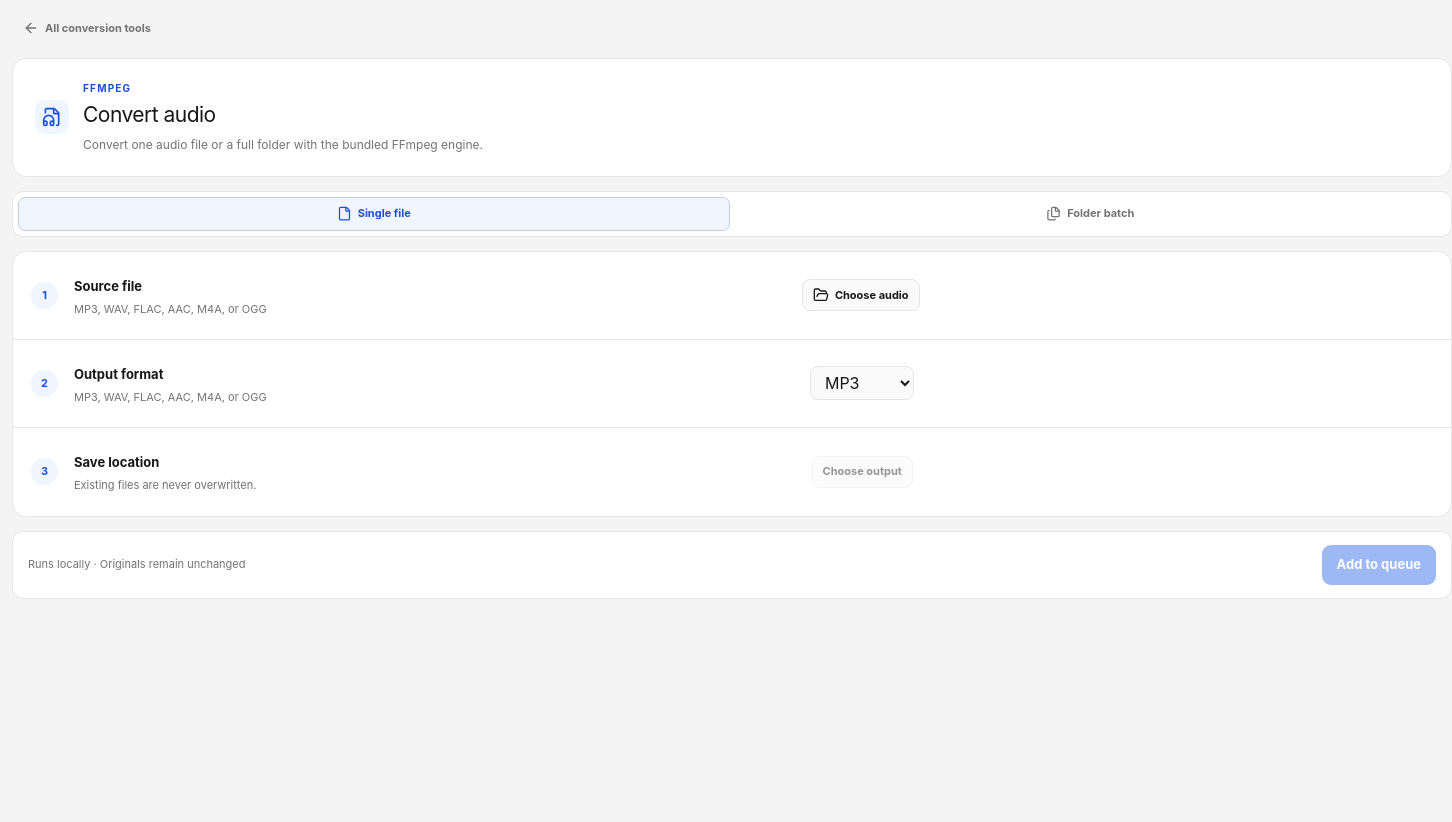
Test: AudioConverter › queues a selected folder as individual sequential audio jobs
This screenshot has width=1452, height=822.
Click the tab "Folder batch": x=1090, y=214 [734, 196, 1446, 230]
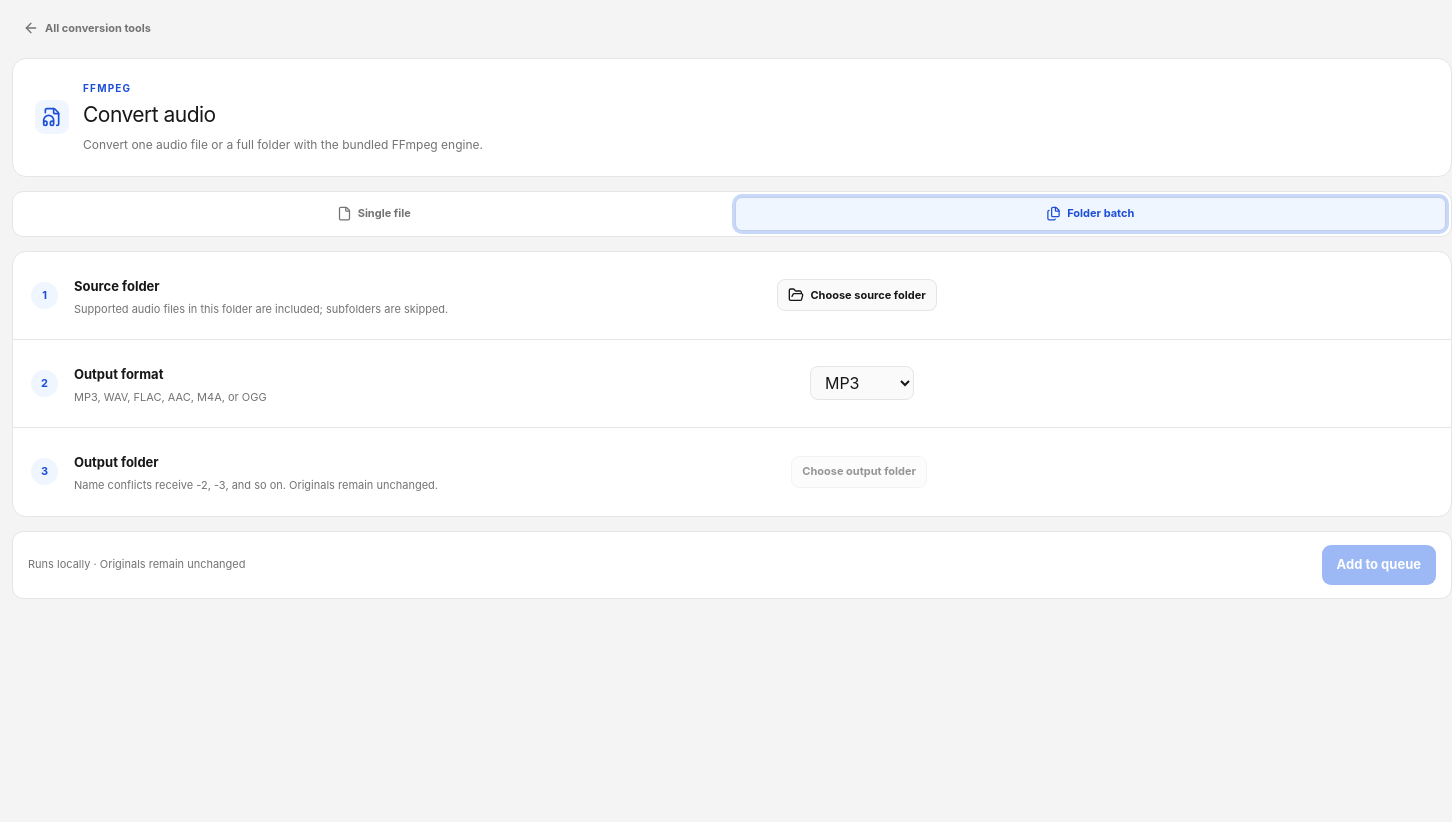
Click the button "Choose source folder": x=857, y=295 [777, 279, 937, 311]
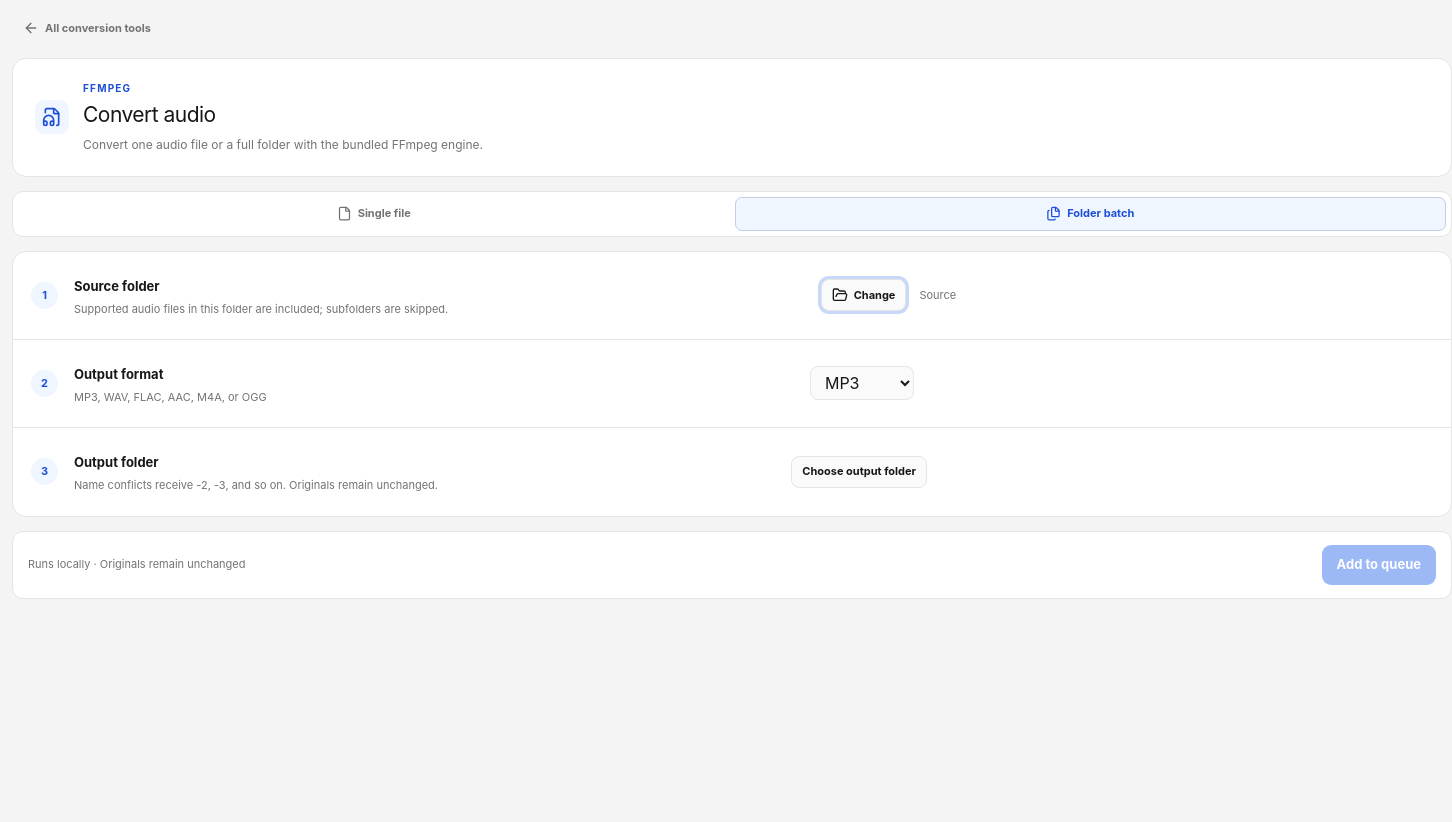
Select "OGG" in the dropdown named "Output format": x=862, y=383 [810, 366, 914, 400]
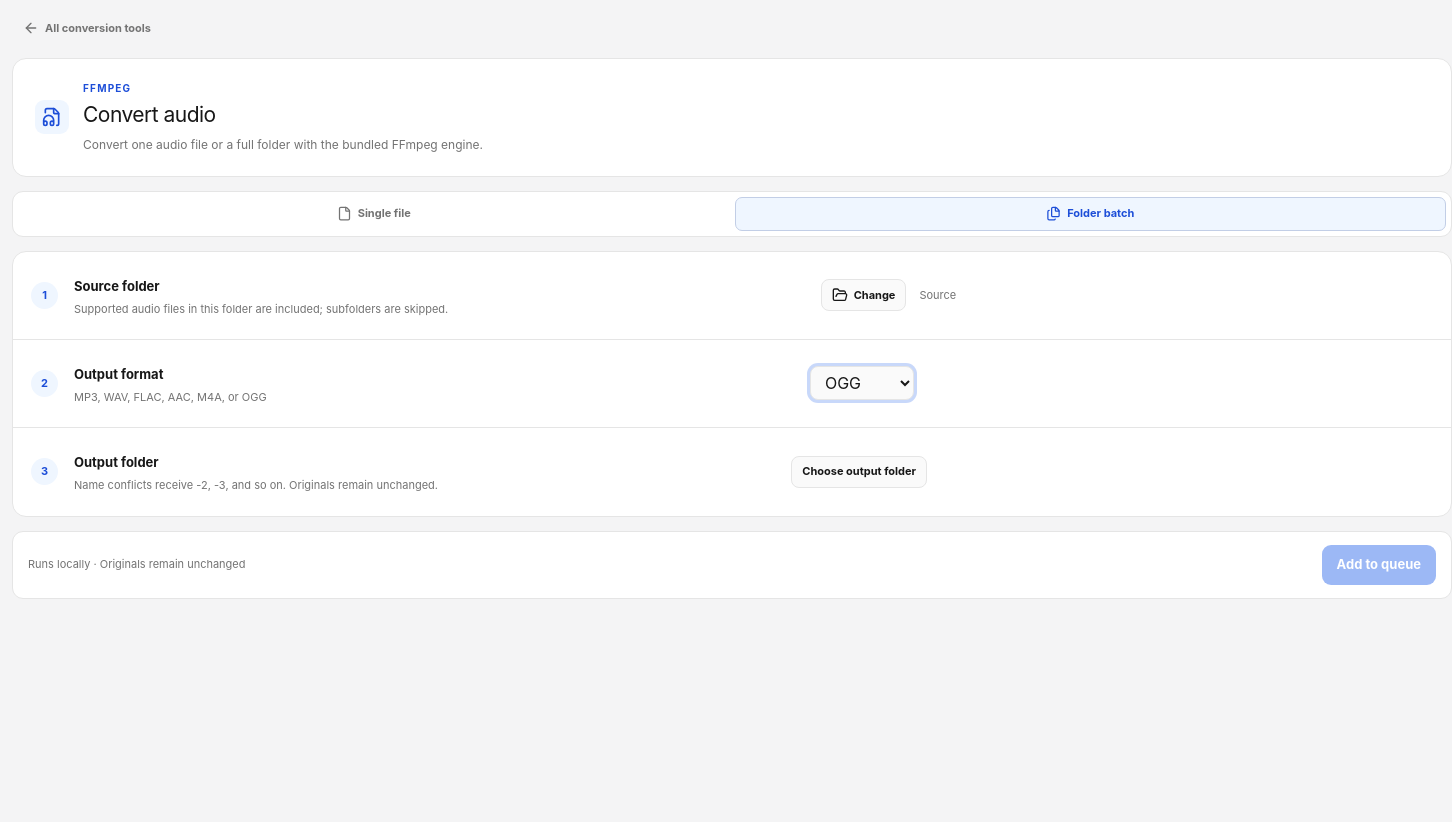
Click the button "Choose output folder": x=859, y=472 [791, 456, 927, 488]
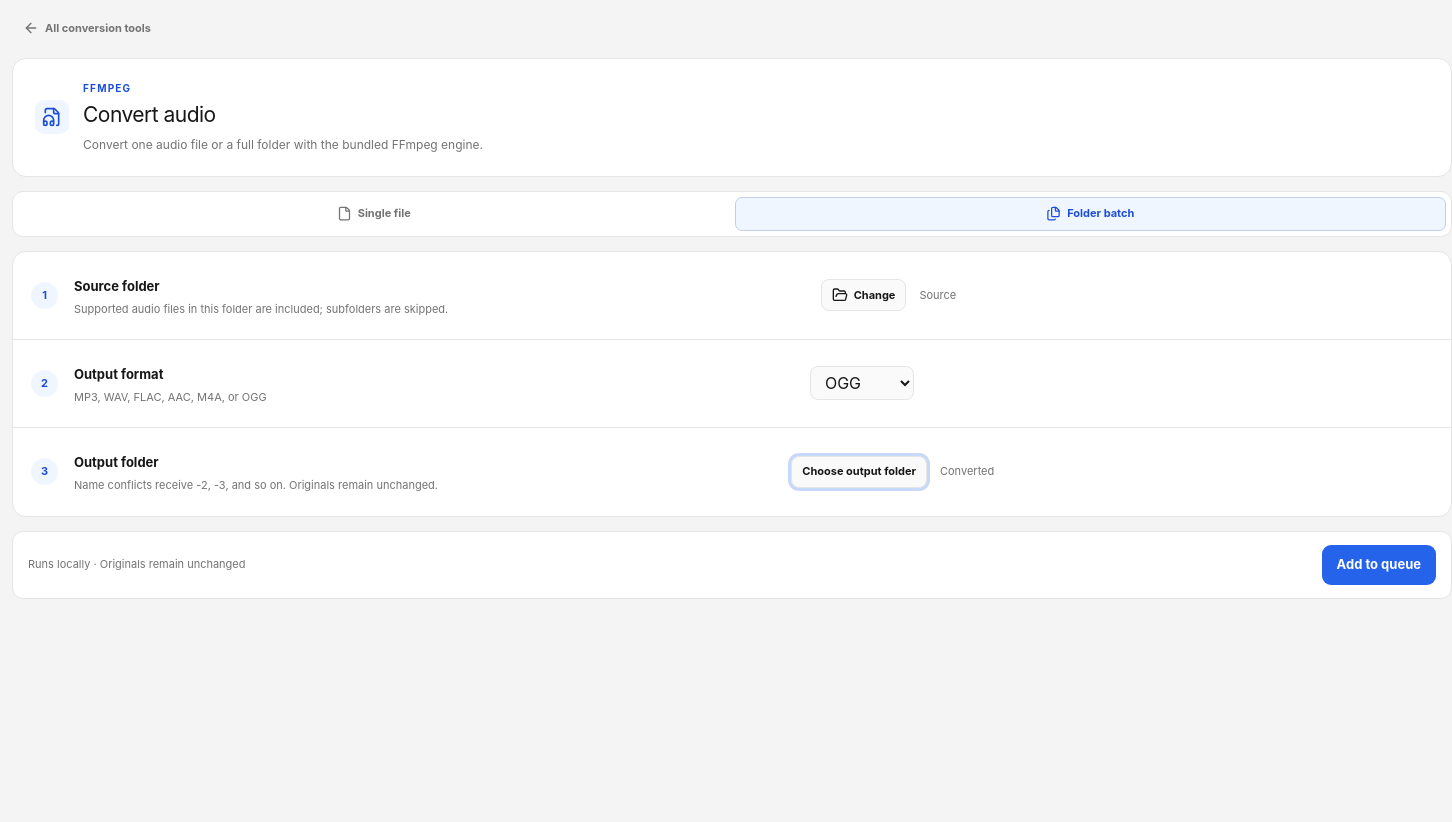
Click the button "Add to queue": x=1379, y=564 [1322, 544, 1436, 584]
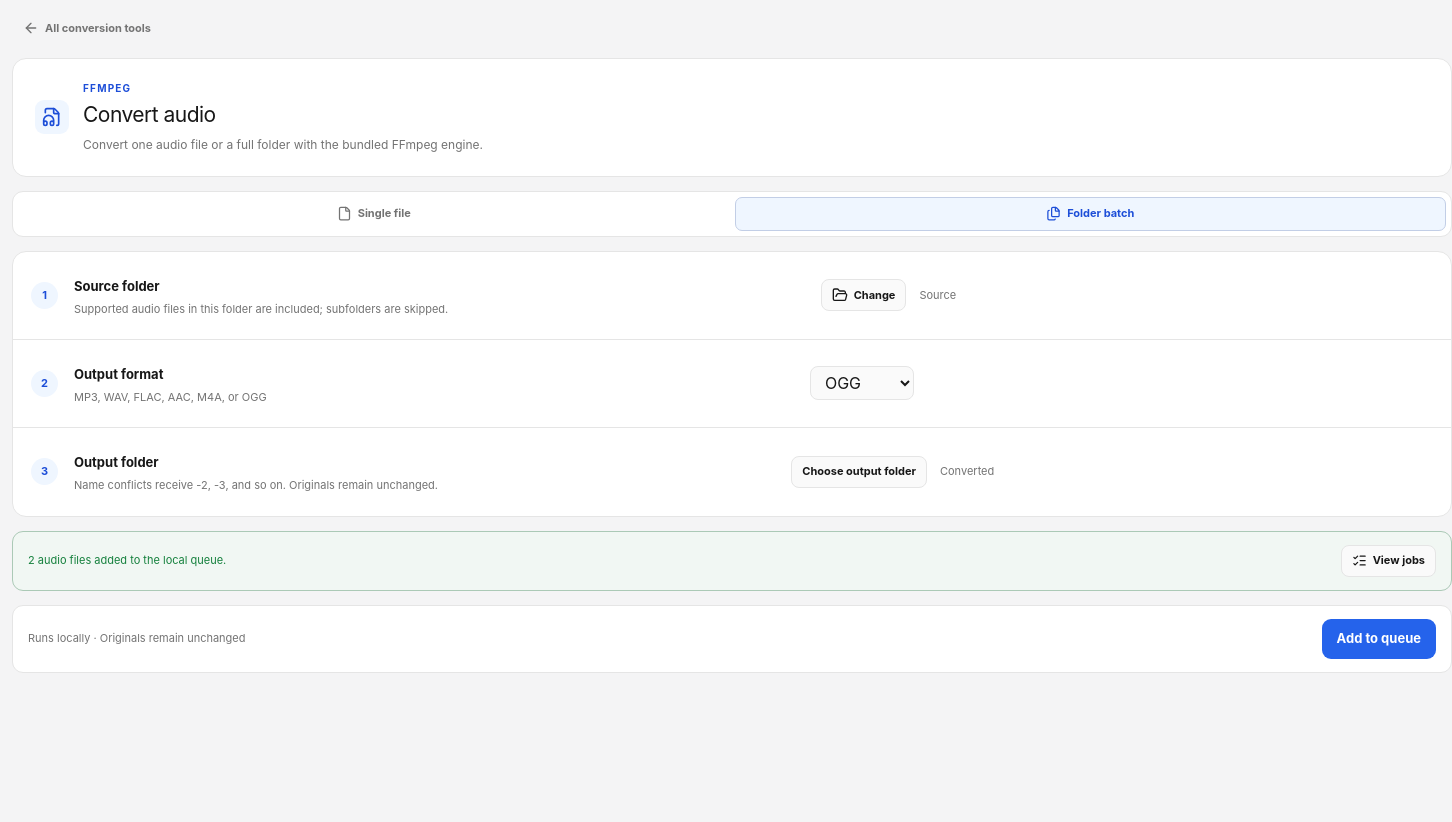
Expected: the text "2 audio files added to the local queue." is shown, [28, 552, 226, 569]
